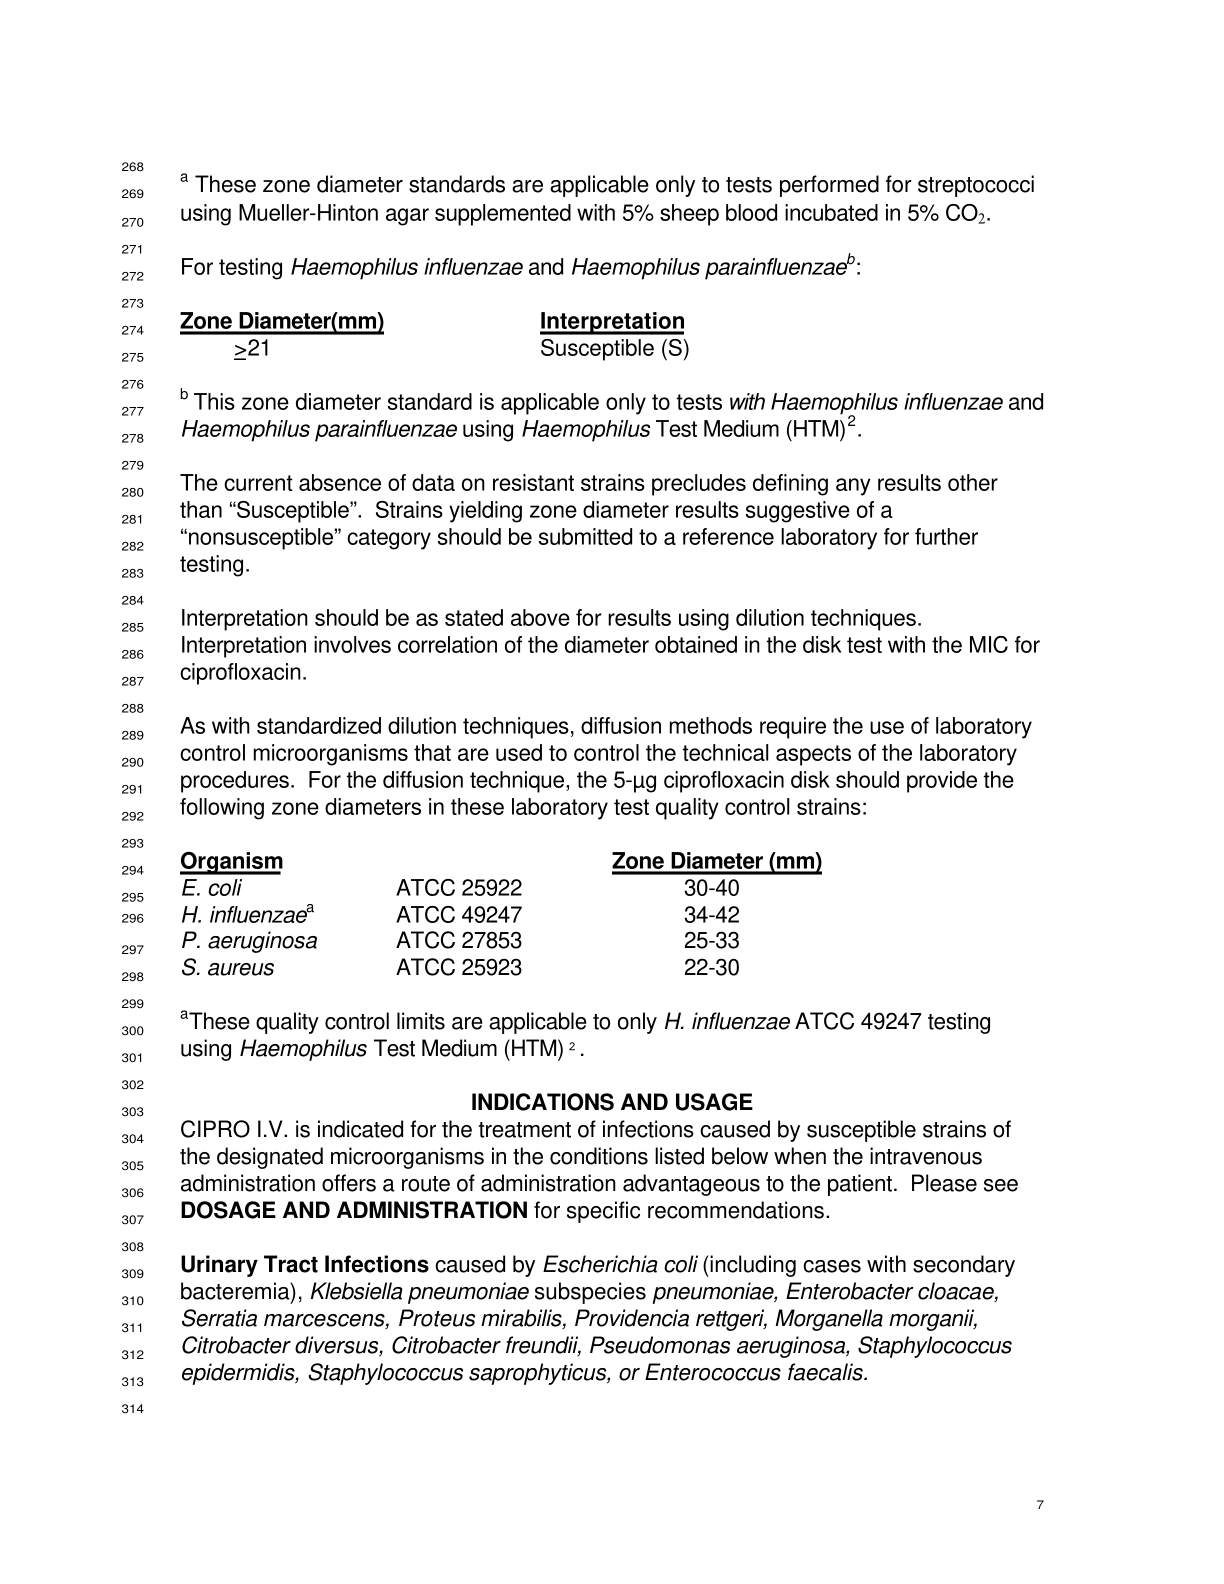nolines: (177, 847, 823, 978), (177, 309, 692, 363)
